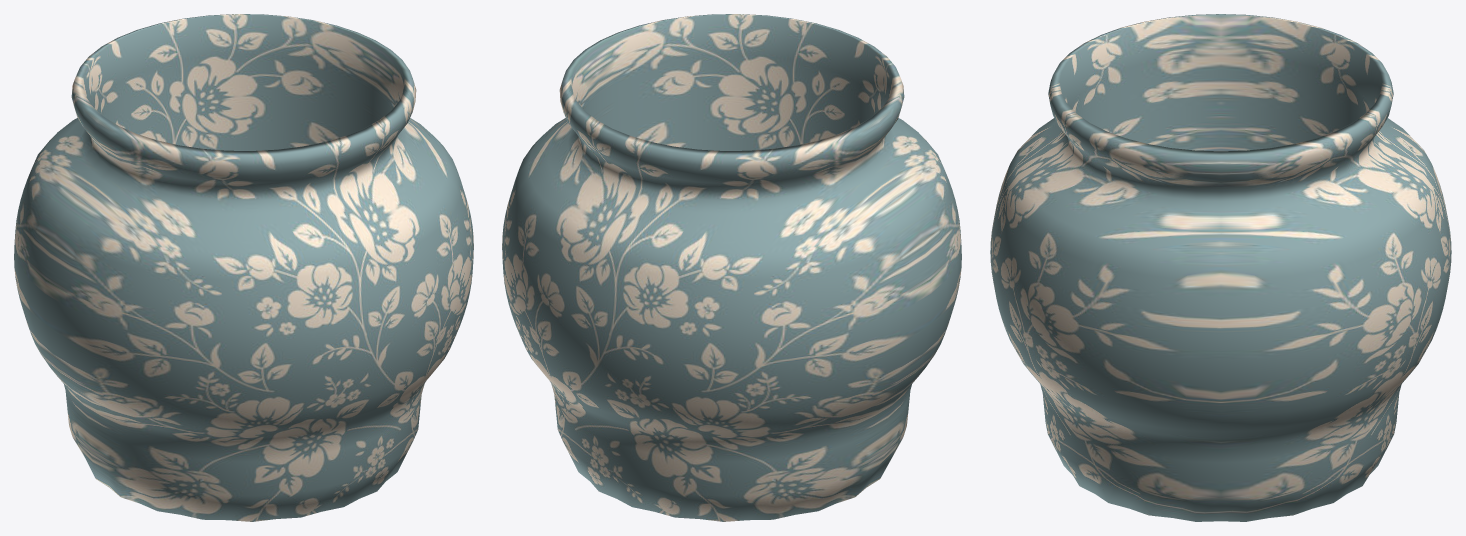
File: pot 2.fbx
3 renders of one model, left to right at view 1: azimuth 30°, elevation 25°; view 2: azimuth 150°, elevation 25°; view 3: azimuth 270°, elevation 25°, orthographic.
Parts seen in each view (by area): view 1: pCylinder3; view 2: pCylinder3; view 3: pCylinder3.
Boxes of the visible parts, x1=… form: pCylinder3: x1=14, y1=14, x2=473, y2=521; pCylinder3: x1=502, y1=14, x2=961, y2=521; pCylinder3: x1=990, y1=14, x2=1451, y2=521.
Bounding box in the file's own units: 6.09 × 5.59 × 6.09.
